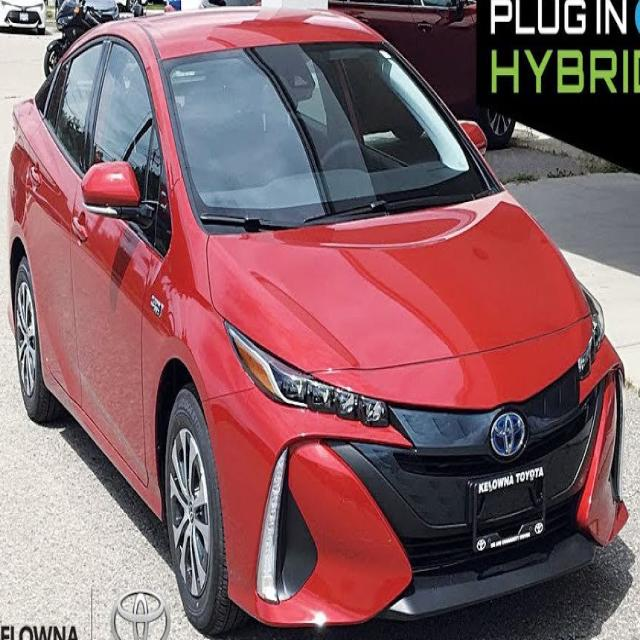red: (15, 18, 627, 594)
